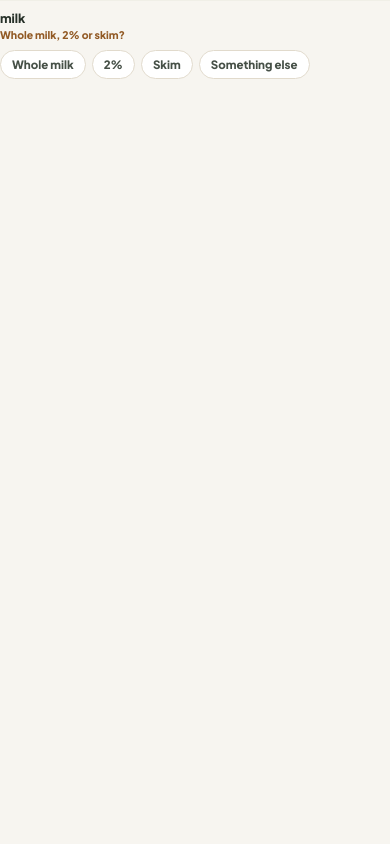
Scenario: MealAskedRow — the buttons › a failed re-read says so in plain words and keeps the buttons for another go
Click the button "2%": (113, 64) [92, 50, 135, 79]
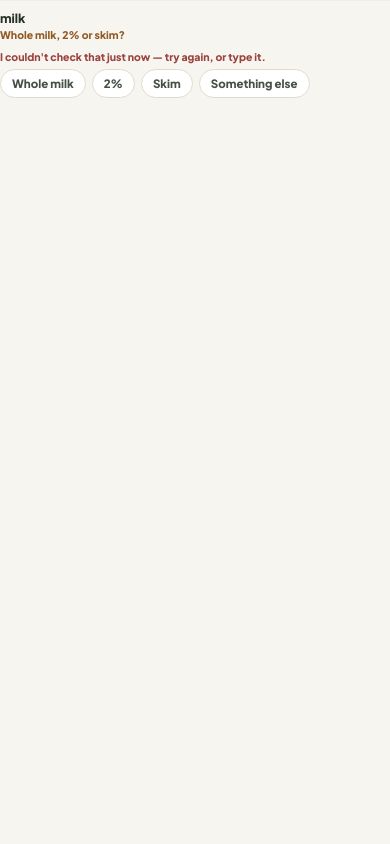
Expected: the button "Whole milk" is enabled, [0, 69, 86, 98]
Now the text "I couldn't check that just now — try again, or type it." is shown, box [0, 50, 266, 63]
